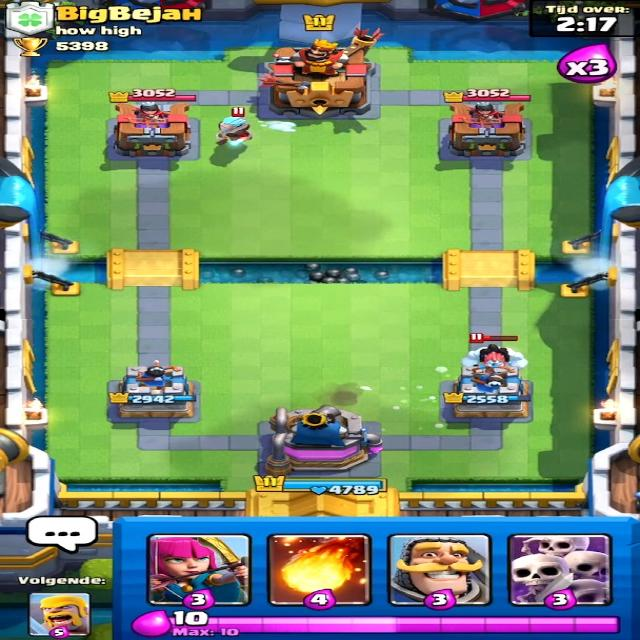Enemy_Ice_Golem_Troop: (456, 337, 537, 367)
Enemy_Ice_Wizard_Troop: (212, 111, 264, 154)
Fireball_Card: (264, 533, 374, 608)
